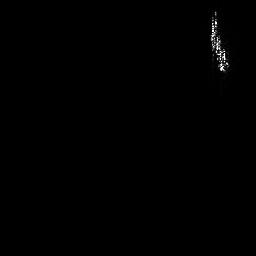ship: (209, 10, 229, 74)
